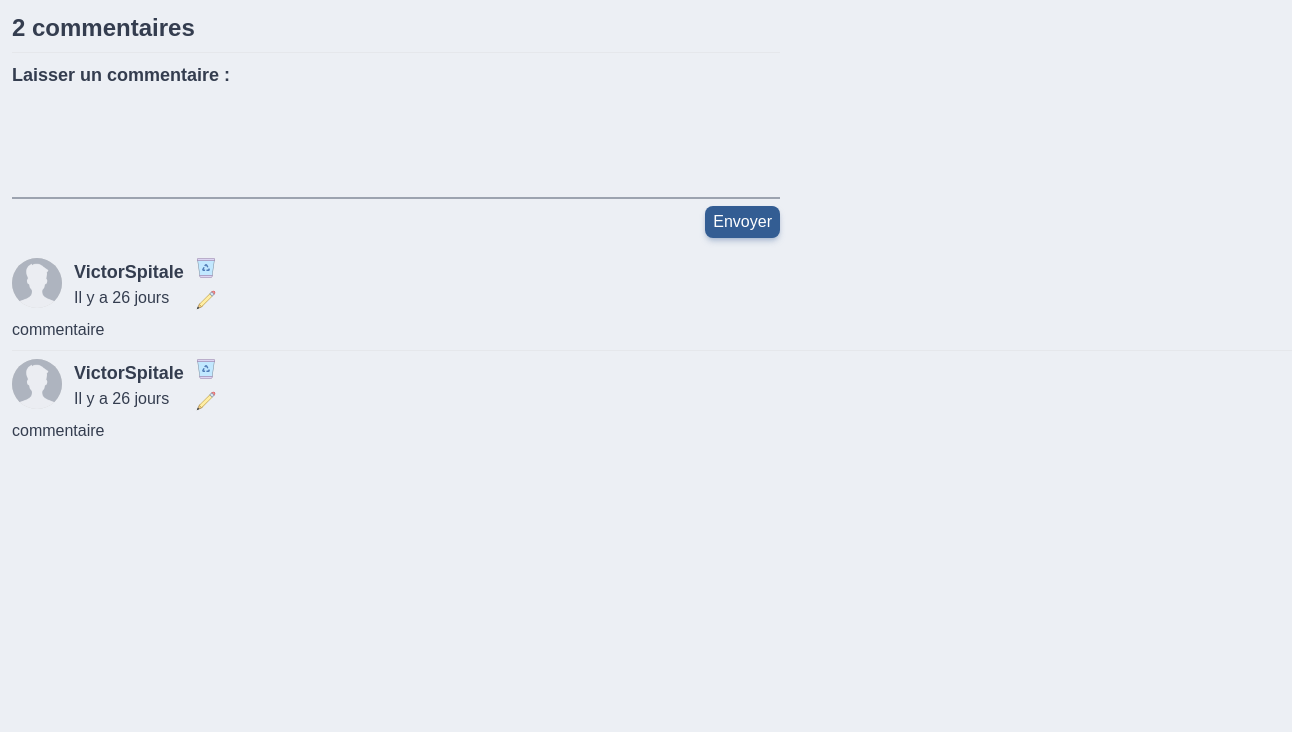
Test: CommentsTest › should update a comment
Click the 2nd icon at (206, 300), box [196,290,216,310]
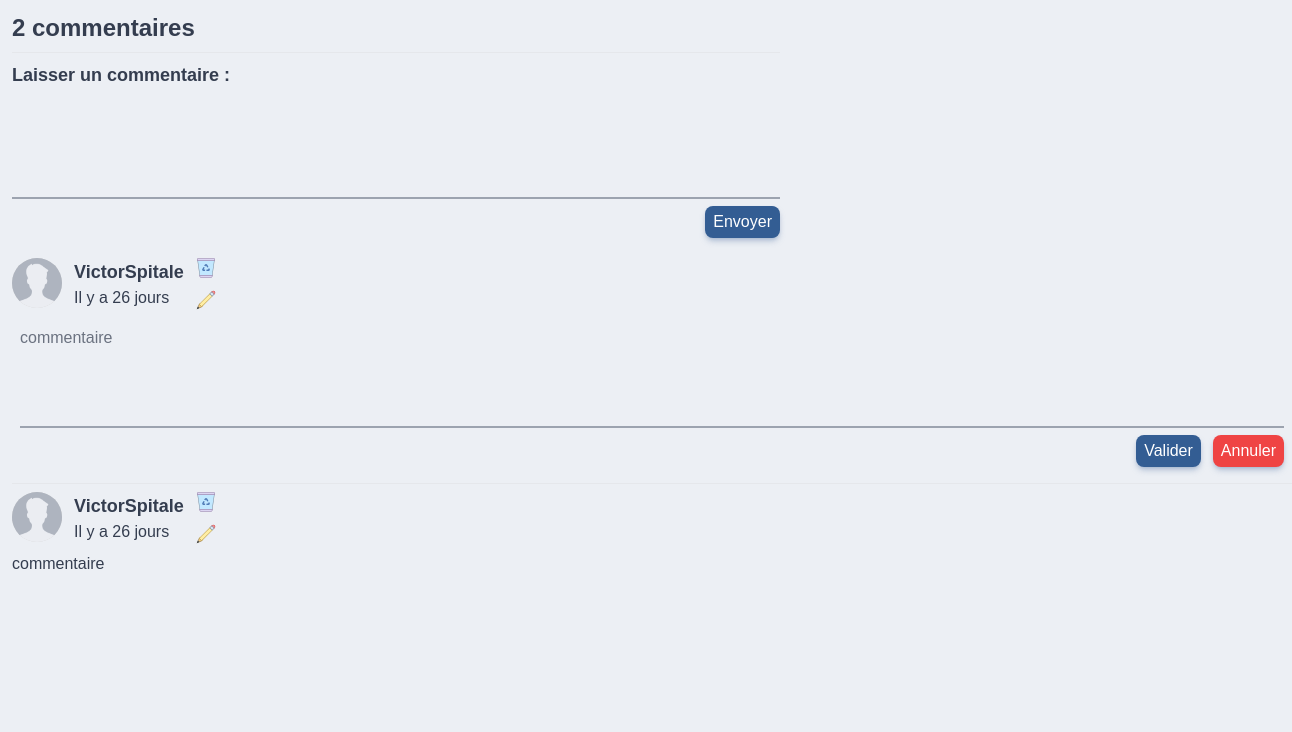
Replace the text in the 2nd text box with "new comment" at (652, 377), box [20,326,1284,428]
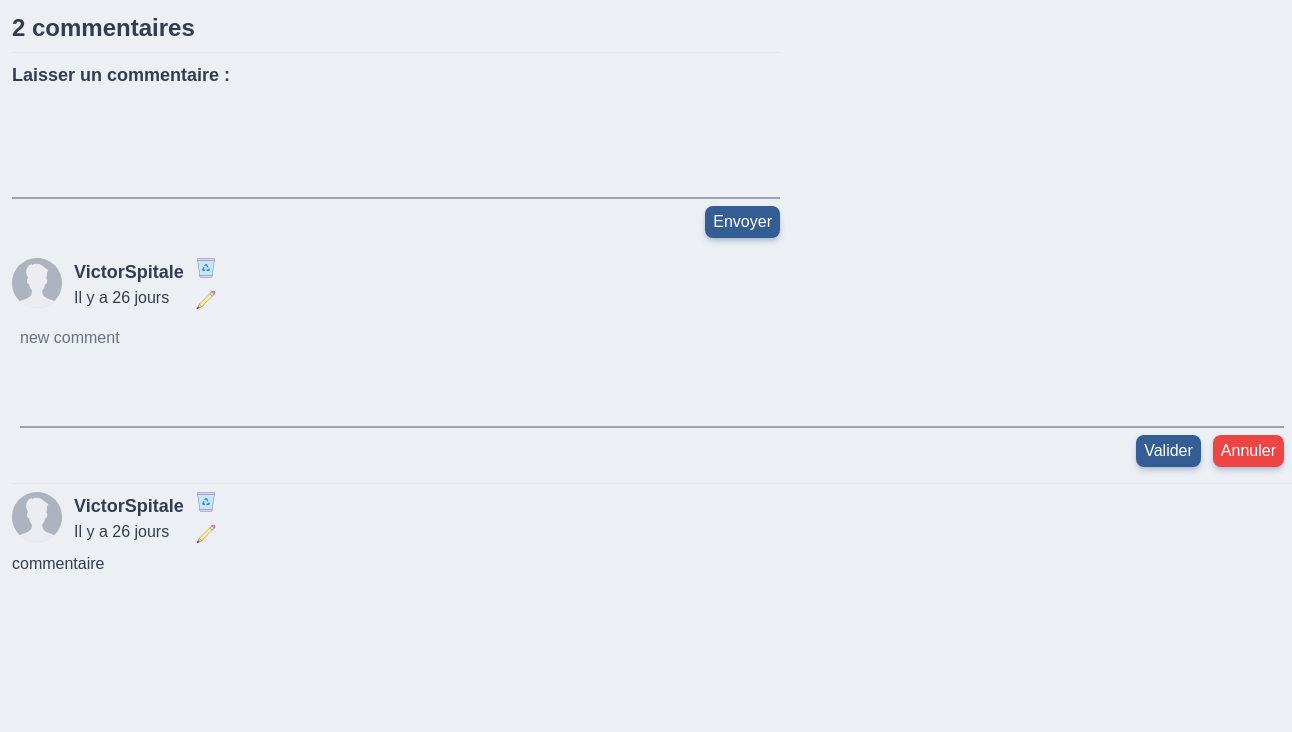
Click the button "Valider" at (1168, 451), box [1136,435,1201,467]
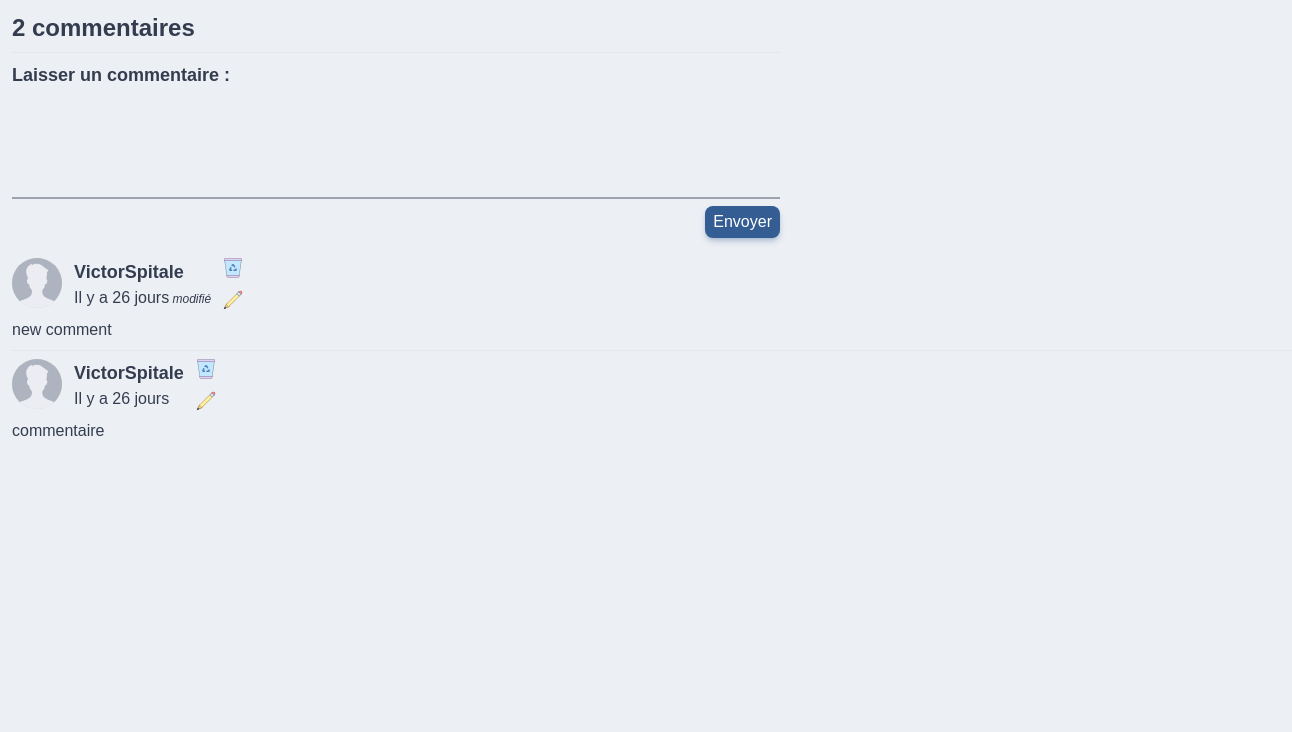
Now the text "new comment" is shown, box [12,321,112,338]
Now the text "modifié" is shown, box [169,292,211,306]
